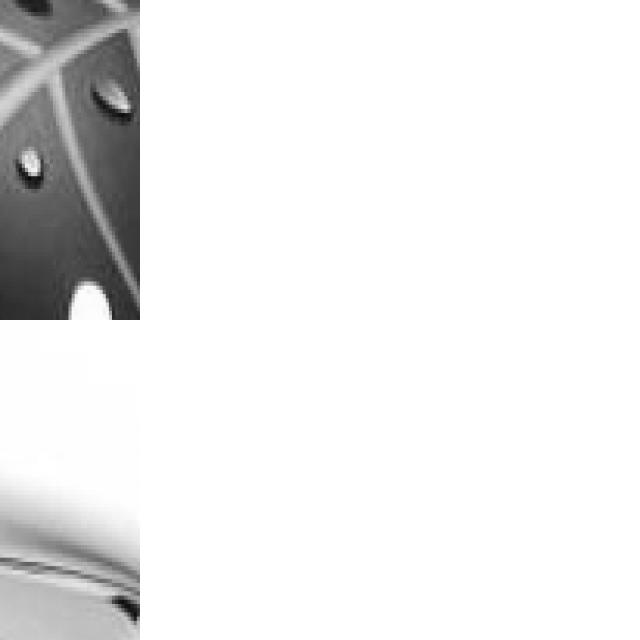spoons: (0, 0, 140, 320)
